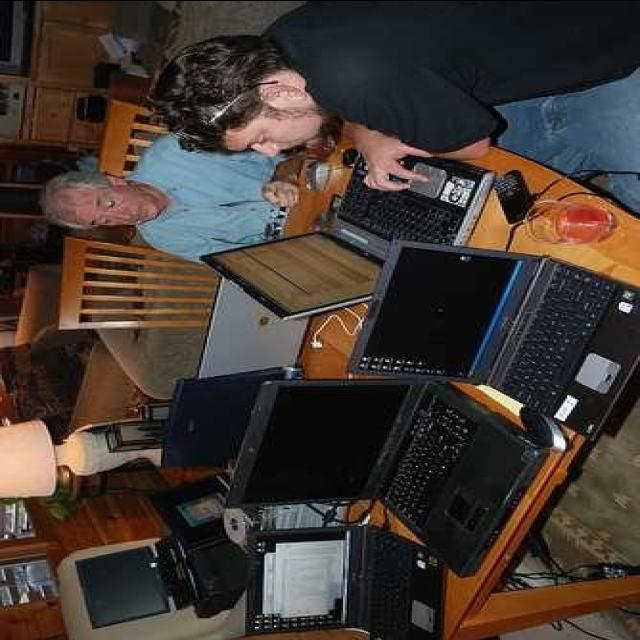laptop: (216, 151, 640, 511), (356, 230, 608, 374), (258, 523, 426, 634), (146, 357, 268, 471)
